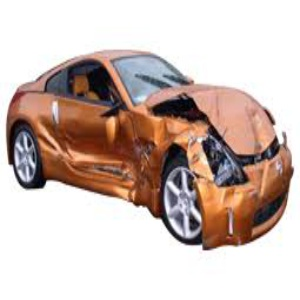bonnet: (178, 80, 273, 138)
bumper: (194, 173, 261, 249)
door: (53, 114, 157, 188)
